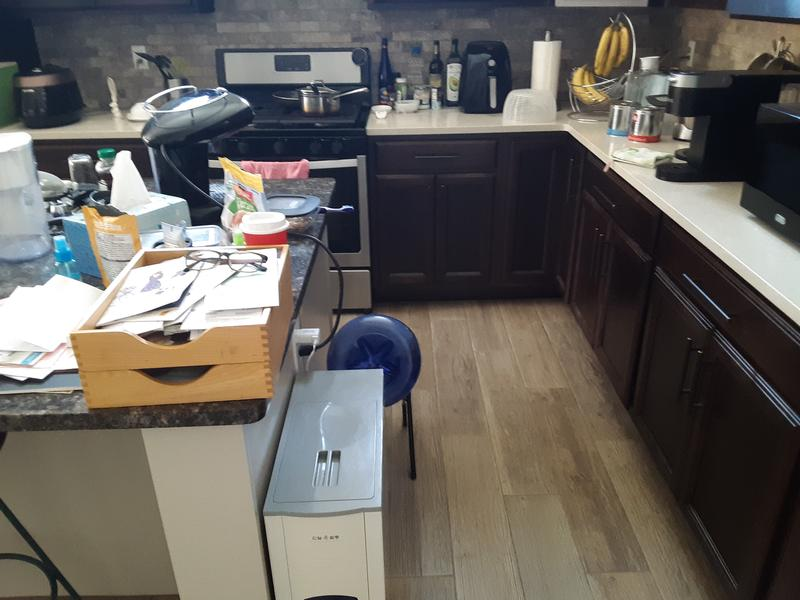glasses: (181, 248, 271, 275)
